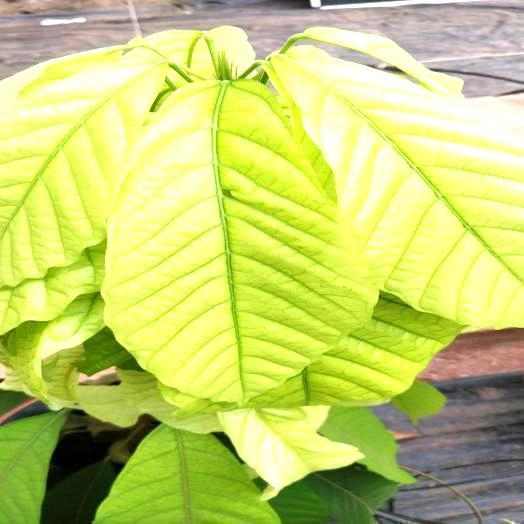Iron: (103, 81, 377, 401), (272, 47, 523, 328), (0, 58, 166, 286)
